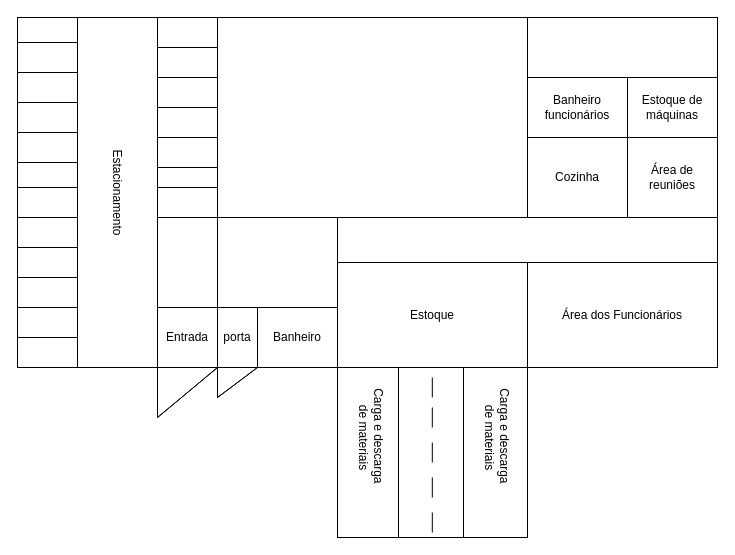
This 735x555 diagram has some shape labels left out. Here are the shapes that lost their labels. From the top down, the centre of each, then its label:
At pixel 622 47: "Área de lazer".
At pixel 372 117: "Área dos produtos".
At pixel 527 239: "Corredor".
At pixel 187 262: "Área de visitantes".
At pixel 277 262: "Recepçâo".
